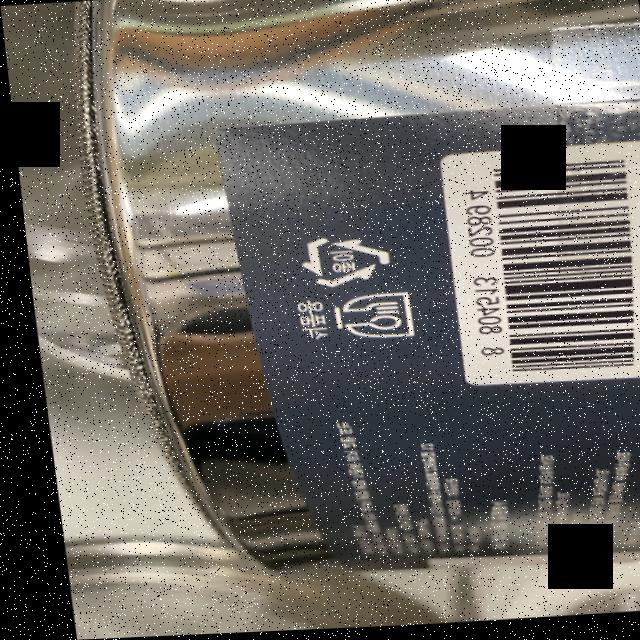Paper: (285, 231, 391, 294)
